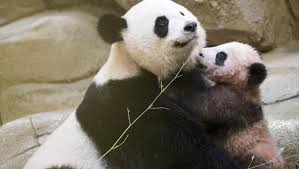panda: (18, 1, 207, 169), (197, 39, 284, 168)
